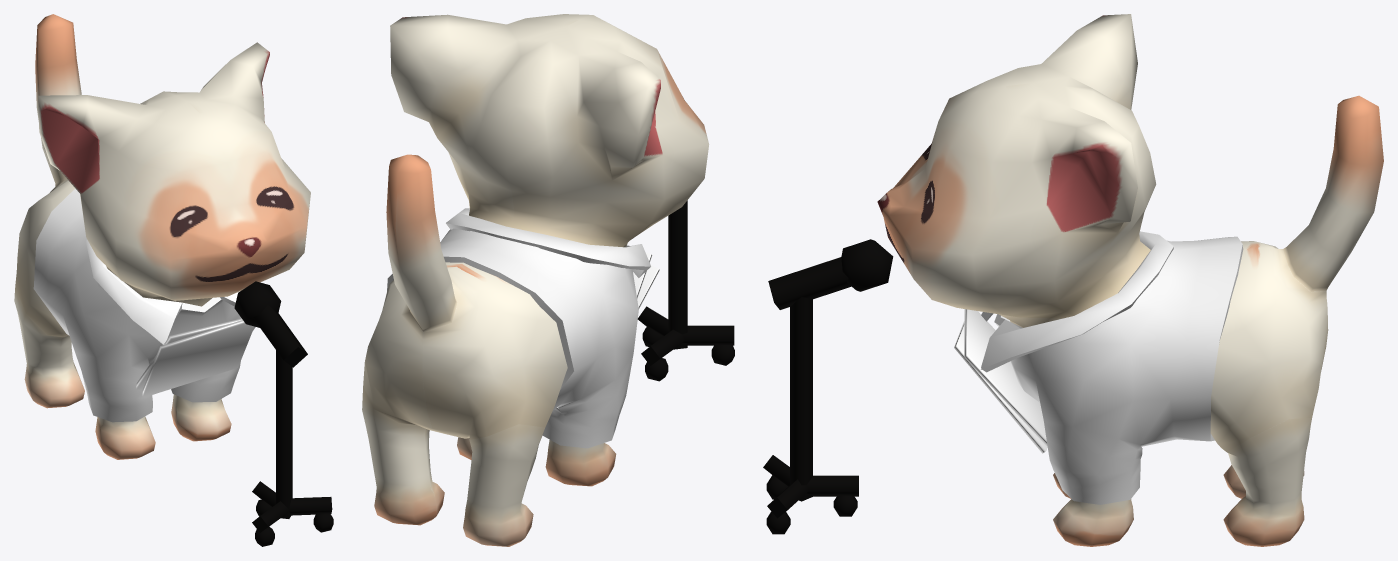
The model's file is Press Cat02.fbx.
The picture shows the model from 3 angles, left to right: view 1: azimuth 30°, elevation 25°; view 2: azimuth 150°, elevation 25°; view 3: azimuth 270°, elevation 25°; orthographic projection. The views are drawn at different scales.
Parts seen in each view (by area): view 1: Cat_Base001, Press_Cat_Shirt, Press_Cat_Mic, Press_Cat_Script; view 2: Cat_Base001, Press_Cat_Shirt, Press_Cat_Mic, Press_Cat_Script; view 3: Cat_Base001, Press_Cat_Shirt, Press_Cat_Mic, Press_Cat_Script.
Boxes of the visible parts, x1,y1,x2,y2 form: Cat_Base001: (14, 14, 310, 459); Press_Cat_Shirt: (33, 188, 241, 422); Press_Cat_Mic: (234, 281, 333, 546); Press_Cat_Script: (136, 318, 255, 397); Cat_Base001: (362, 14, 709, 546); Press_Cat_Shirt: (387, 208, 650, 448); Press_Cat_Mic: (637, 200, 734, 381); Press_Cat_Script: (633, 252, 659, 309); Cat_Base001: (877, 14, 1383, 546); Press_Cat_Shirt: (981, 231, 1243, 504); Press_Cat_Mic: (763, 239, 893, 534); Press_Cat_Script: (954, 309, 1047, 453).
Size of the model in its own units: 1.75 by 3.47 by 2.68.
Materials: 3 (1 with a texture image).
